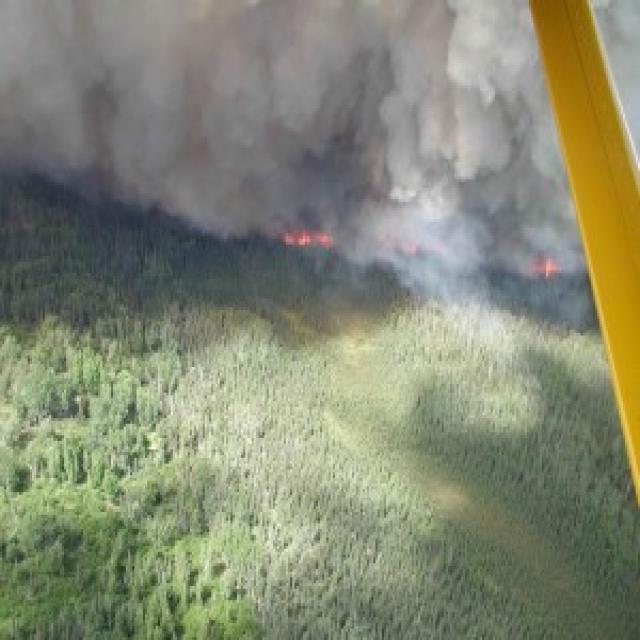Fire: (284, 226, 342, 256), (526, 255, 563, 276)
Smoke: (4, 5, 538, 209)
